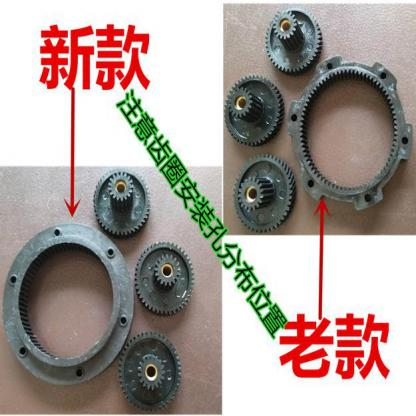FOD: (295, 60, 406, 207), (116, 329, 186, 414), (230, 150, 298, 235), (132, 239, 195, 319), (224, 69, 284, 148), (90, 168, 152, 236), (265, 7, 323, 74)
